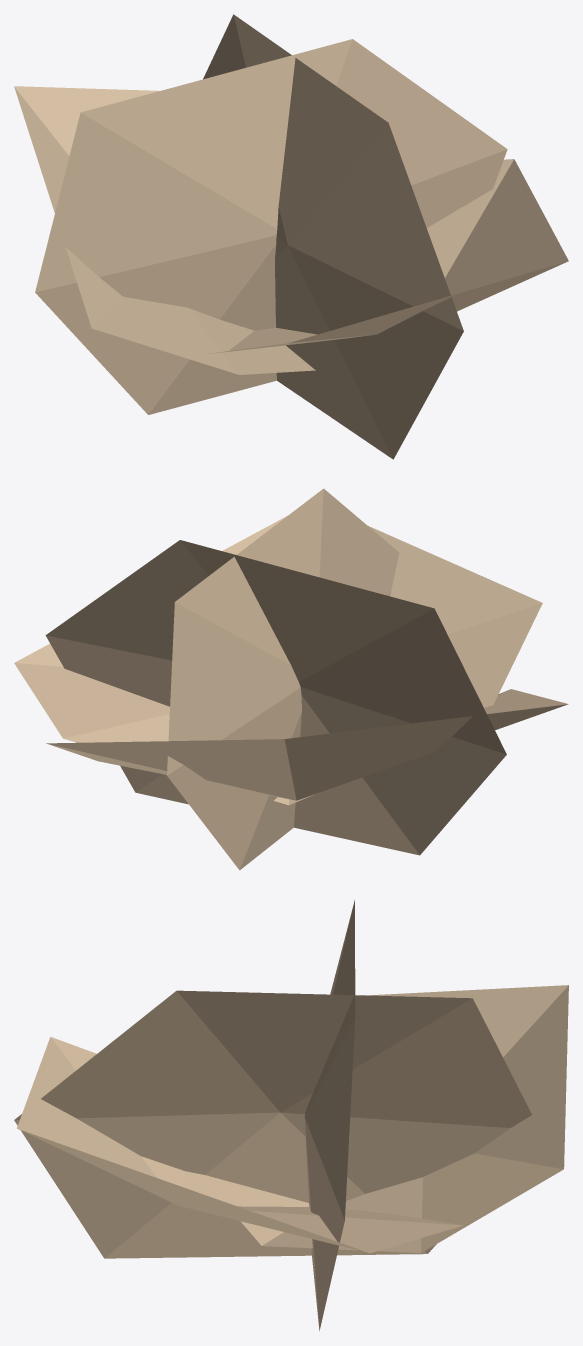
The model's file is SM_FOL_Grass_Clump_03_A.obj.
3 renders of one model, top to bottom at view 1: azimuth 30°, elevation 25°; view 2: azimuth 150°, elevation 25°; view 3: azimuth 270°, elevation 25°, orthographic. The views are drawn at different scales.
Parts seen in each view (by area): view 1: SM_FOL_Grass_Clump_03_A; view 2: SM_FOL_Grass_Clump_03_A; view 3: SM_FOL_Grass_Clump_03_A.
Boxes of the visible parts, x1,y1,x2,y2 form: SM_FOL_Grass_Clump_03_A: [14, 14, 568, 459]; SM_FOL_Grass_Clump_03_A: [14, 488, 568, 870]; SM_FOL_Grass_Clump_03_A: [14, 900, 568, 1331].
Size of the model in its own units: 110 by 62.31 by 111.
